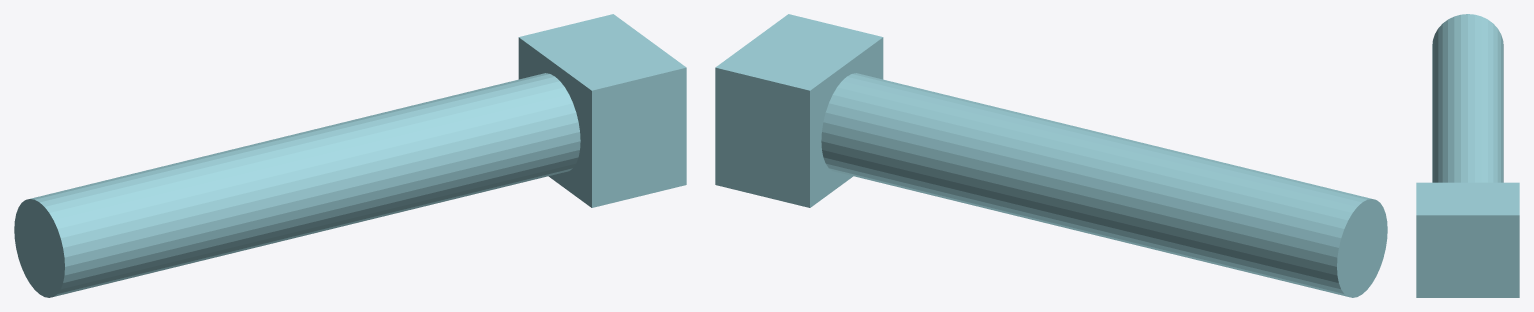
Rendered from cylinder_hammer_v1006.obj.
The picture shows the model from 3 angles, left to right: view 1: azimuth 30°, elevation 25°; view 2: azimuth 150°, elevation 25°; view 3: azimuth 270°, elevation 25°; orthographic projection. The views are drawn at different scales.
Bounding box in the file's own units: 0.2808 × 0.0516 × 0.0583.
Materials: 1 (1 with a texture image).
